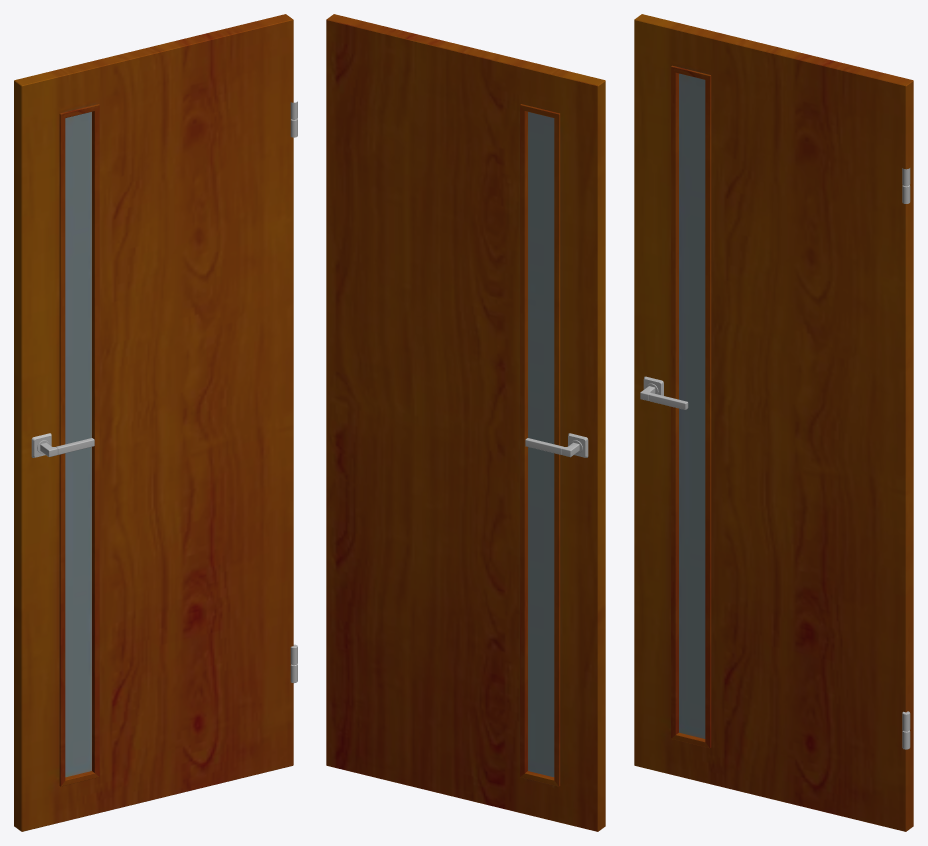
Rendered from CR_Door.glb.
The picture shows the model from 3 angles, left to right: view 1: azimuth 30°, elevation 25°; view 2: azimuth 150°, elevation 25°; view 3: azimuth 330°, elevation 25°; orthographic projection.
Visible parts, largest first — view 1: Door; view 2: Door; view 3: Door.
Part boxes in pixels (x1=…): Door: x1=14, y1=14, x2=297, y2=831; Door: x1=326, y1=14, x2=605, y2=831; Door: x1=634, y1=14, x2=913, y2=831.
Size of the model in its own units: 0.808 by 2.09 by 0.1485.
1 material, 1 textured.
